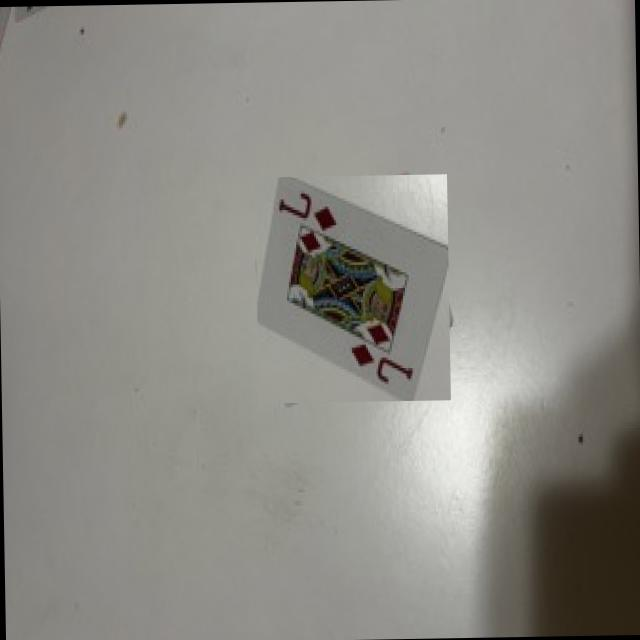Jack of diamonds: (257, 176, 448, 399)
